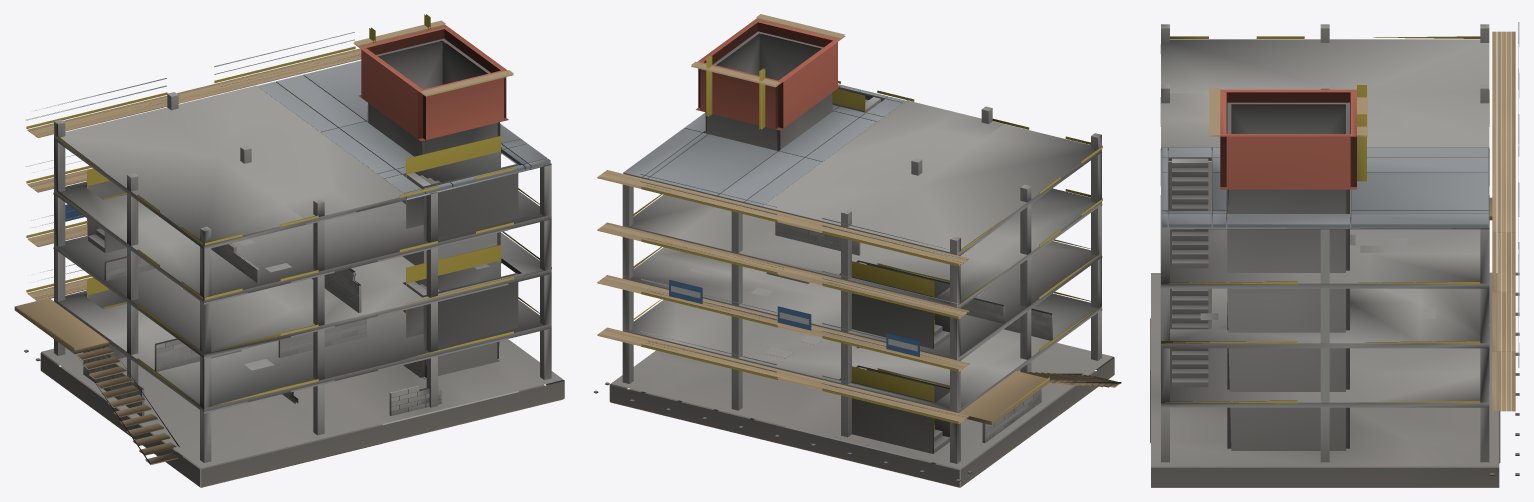
Rendered from tower.lod.glb.
The picture shows the model from 3 angles, left to right: view 1: azimuth 30°, elevation 25°; view 2: azimuth 150°, elevation 25°; view 3: azimuth 270°, elevation 25°; orthographic projection. The views are drawn at different scales.
Parts seen in each view (by area): view 1: tower_0, tower_1; view 2: tower_0, tower_1; view 3: tower_0, tower_1.
Boxes of the visible parts, x1,y1,x2,y2 form: tower_0: [14, 14, 564, 486]; tower_1: [25, 32, 518, 487]; tower_0: [594, 14, 1121, 486]; tower_1: [640, 81, 1114, 487]; tower_0: [1151, 24, 1519, 487]; tower_1: [1150, 22, 1519, 487].
Size of the model in its own units: 27.74 by 21.3 by 20.28.
